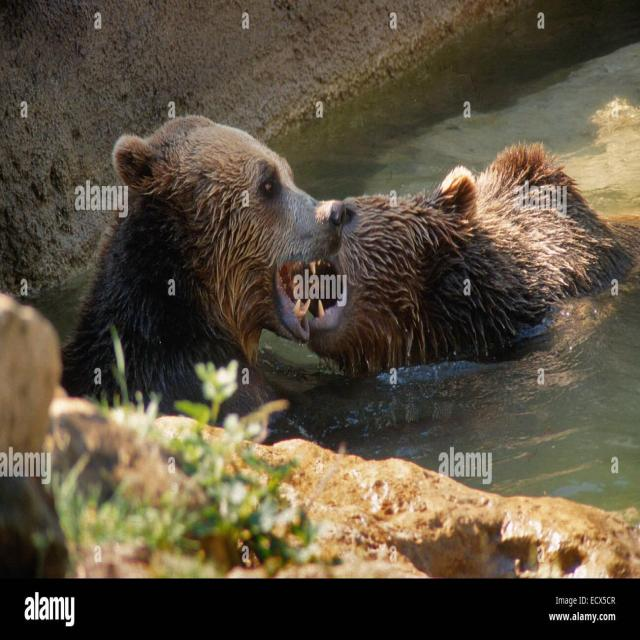Bear: (300, 143, 634, 380), (82, 124, 317, 402)
